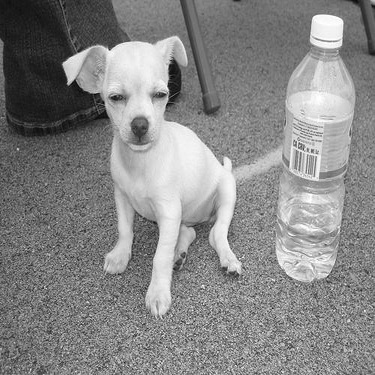dog: (56, 33, 254, 322)
